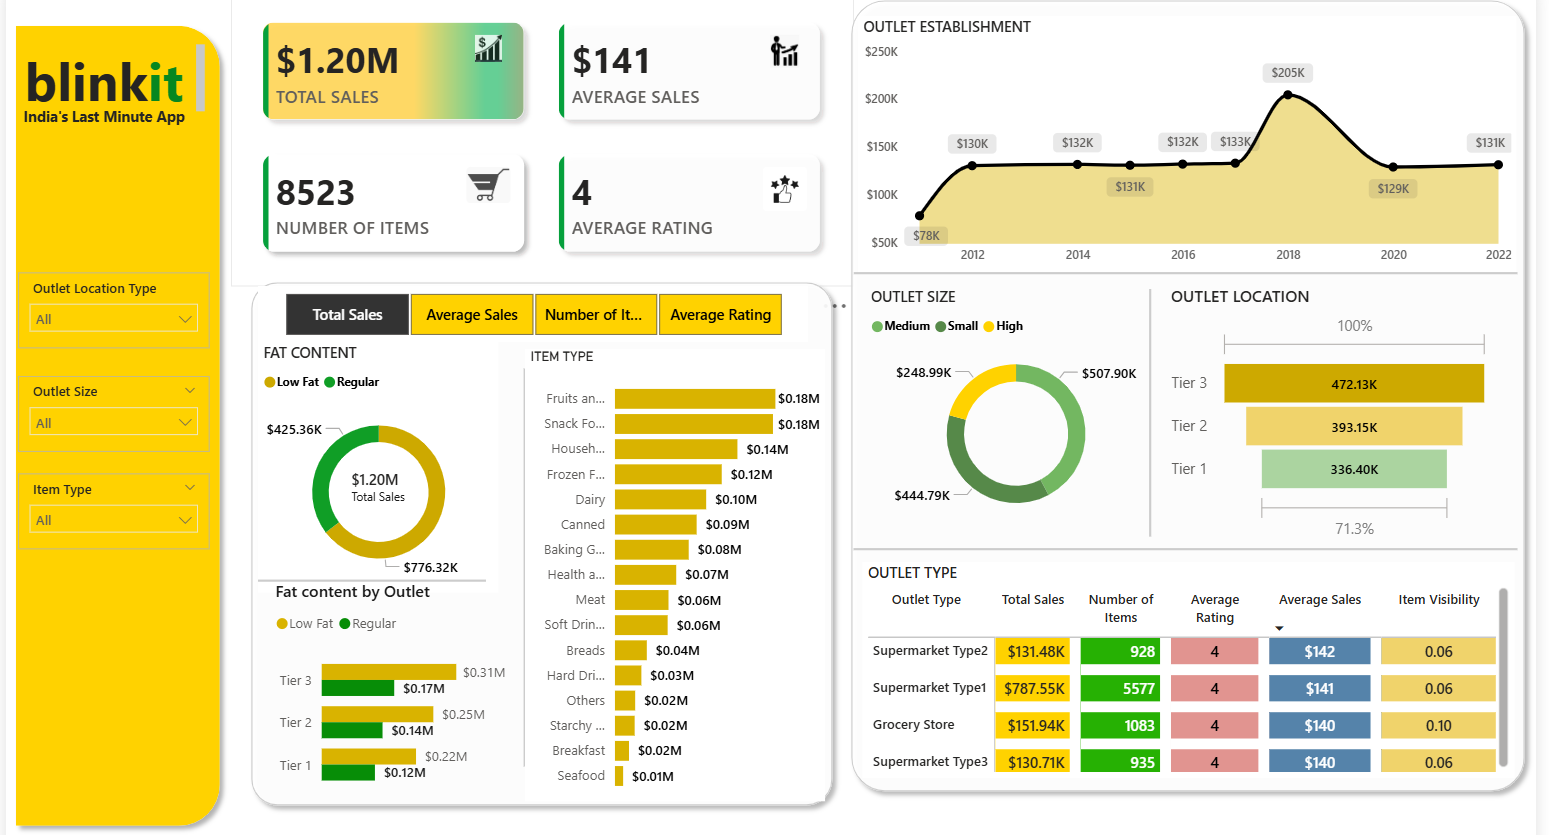

The page's visual inventory and layout, read from the dashboard file:
{"tool":"powerbi","page":{"name":"Page 1","canvas":[1400,800],"ordinal":0},"visuals":[{"type":"shape","box":[0,24.8,204.6,750.3],"z":0},{"type":"textbox","box":[0,44.7,187.1,72.9],"z":1000},{"type":"textbox","box":[11.6,101,175.6,34.8],"z":2000},{"type":"cardVisual","fields":{"Data":["BlinkIT Grocery Data.Total Sales","BlinkIT Grocery Data.Average Sales","BlinkIT Grocery Data.Number of Items","BlinkIT Grocery Data.Average Rating"]},"box":[205.4,1.7,569.7,270],"z":3000},{"type":"shape","box":[215.3,260,549.8,496.8],"z":4000},{"type":"donutChart","title":"FAT CONTENT","fields":{"Y":["BlinkIT Grocery Data.Total Sales"],"Category":["BlinkIT Grocery Data.Item Fat Content"]},"box":[230.2,323,220.3,230.2],"z":5000},{"type":"slicer","fields":{"Values":["Metrics.Metrics"]},"box":[230.2,271.6,503.5,51.3],"z":6000},{"type":"cardVisual","fields":{"Data":["BlinkIT Grocery Data.Total Sales"]},"box":[286.5,424,109.3,62.9],"z":7000},{"type":"clusteredBarChart","title":"Fat content by Outlet","fields":{"Y":["BlinkIT Grocery Data.Total Sales"],"Category":["BlinkIT Grocery Data.Outlet Location Type"],"Series":["BlinkIT Grocery Data.Item Fat Content"]},"box":[241.8,541.6,220.3,205.4],"z":8000},{"type":"shape","box":[230.2,530,208.7,23.2],"z":9000},{"type":"shape","box":[424,347.8,101,364.4],"z":10000},{"type":"barChart","title":"ITEM TYPE","fields":{"Y":["BlinkIT Grocery Data.Total Sales"],"Category":["BlinkIT Grocery Data.Item Type"]},"box":[475.3,329.6,274.9,414],"z":11000},{"type":"shape","box":[765.1,1.7,634.3,742],"z":12000},{"type":"lineChart","title":"OUTLET ESTABLISHMENT","fields":{"Y":["BlinkIT Grocery Data.Total Sales"],"Category":["BlinkIT Grocery Data.Outlet Establishment Year"]},"box":[780.1,24.8,602.8,235.2],"z":13000},{"type":"shape","box":[775.1,248.4,607.8,23.2],"z":14000},{"type":"donutChart","title":"OUTLET SIZE","fields":{"Y":["BlinkIT Grocery Data.Total Sales"],"Category":["BlinkIT Grocery Data.Outlet Size"]},"box":[786.7,271.6,275,225],"z":15000},{"type":"shape","box":[997,274.9,101,226.9],"z":16000},{"type":"funnel","title":"OUTLET LOCATION","fields":{"Y":["Sum(BlinkIT Grocery Data.Sales)"],"Category":["BlinkIT Grocery Data.Outlet Location Type"]},"box":[1061.6,270,301.4,238.5],"z":17000},{"type":"shape","box":[775.1,501.8,607.8,23.2],"z":18000},{"type":"pivotTable","title":"OUTLET TYPE","fields":{"Rows":["BlinkIT Grocery Data.Outlet Type"],"Values":["BlinkIT Grocery Data.Total Sales","BlinkIT Grocery Data.Number of Items","BlinkIT Grocery Data.Average Rating","BlinkIT Grocery Data.Average Sales","Avg(BlinkIT Grocery Data.Item Visibility)"]},"box":[783.4,525,596.2,197.1],"z":19000},{"type":"slicer","fields":{"Values":["BlinkIT Grocery Data.Outlet Location Type"]},"box":[11.6,260,175.6,69.6],"z":20000},{"type":"slicer","fields":{"Values":["BlinkIT Grocery Data.Outlet Size"]},"box":[11.6,354.4,175.6,69.6],"z":21000},{"type":"slicer","fields":{"Values":["BlinkIT Grocery Data.Item Type"]},"box":[11.6,443.9,175.6,69.6],"z":22000}]}

Visuals, with their boxes on the page's 1400x800 design canvas (x1, y1, x2, y2). These are canvas units, not pixel positions in the 1549x835 screenshot, which may show the page scaled, cropped or inside an application window:
shape: region(0, 25, 205, 775)
textbox: region(0, 45, 187, 118)
textbox: region(12, 101, 187, 136)
cardVisual - BlinkIT Grocery Data.Total Sales x BlinkIT Grocery Data.Average Sales: region(205, 2, 775, 272)
shape: region(215, 260, 765, 757)
"FAT CONTENT" donutChart: region(230, 323, 450, 553)
slicer - Metrics.Metrics: region(230, 272, 734, 323)
cardVisual - BlinkIT Grocery Data.Total Sales: region(286, 424, 396, 487)
"Fat content by Outlet" clusteredBarChart: region(242, 542, 462, 747)
shape: region(230, 530, 439, 553)
shape: region(424, 348, 525, 712)
"ITEM TYPE" barChart: region(475, 330, 750, 744)
shape: region(765, 2, 1399, 744)
"OUTLET ESTABLISHMENT" lineChart: region(780, 25, 1383, 260)
shape: region(775, 248, 1383, 272)
"OUTLET SIZE" donutChart: region(787, 272, 1062, 497)
shape: region(997, 275, 1098, 502)
"OUTLET LOCATION" funnel: region(1062, 270, 1363, 508)
shape: region(775, 502, 1383, 525)
"OUTLET TYPE" pivotTable: region(783, 525, 1380, 722)
slicer - BlinkIT Grocery Data.Outlet Location Type: region(12, 260, 187, 330)
slicer - BlinkIT Grocery Data.Outlet Size: region(12, 354, 187, 424)
slicer - BlinkIT Grocery Data.Item Type: region(12, 444, 187, 514)
